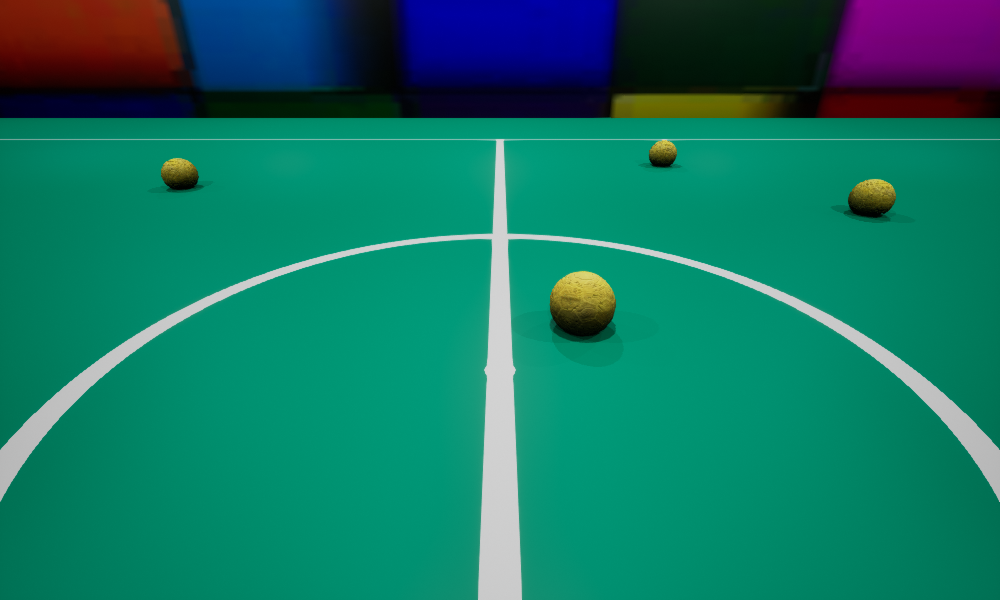b: (550, 271, 615, 335), (848, 179, 895, 216), (161, 158, 198, 189), (649, 140, 676, 166)
